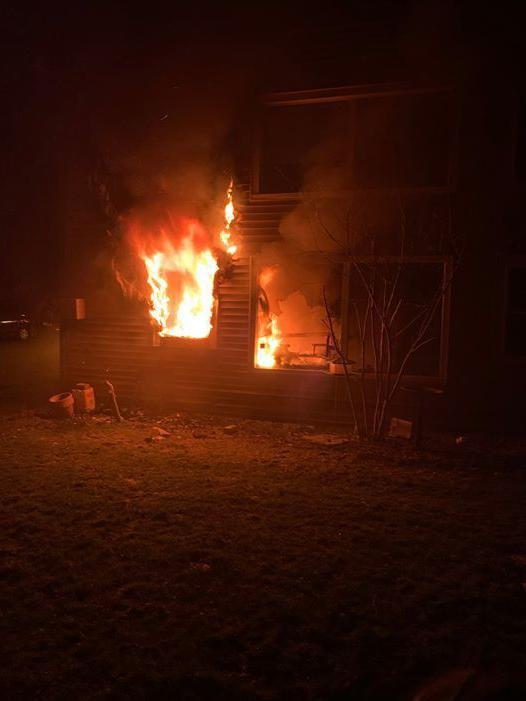Fire: (147, 222, 214, 342), (256, 311, 287, 369), (220, 178, 241, 257)
